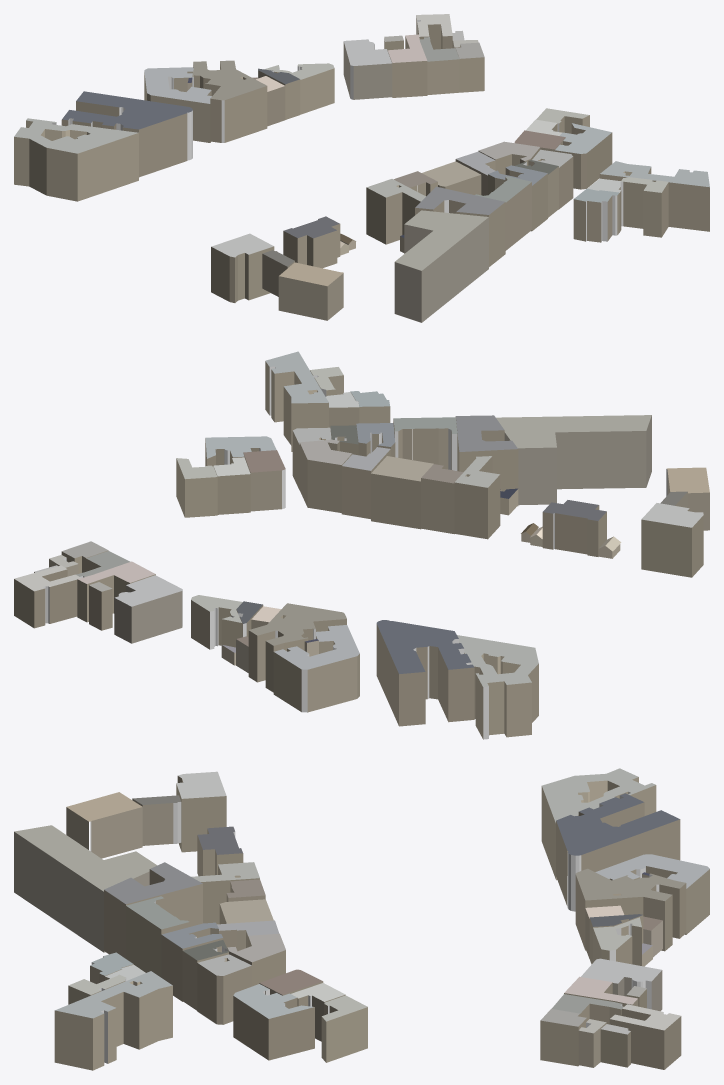
3 views of the same model, one above another, from view 1: azimuth 30°, elevation 25°; view 2: azimuth 150°, elevation 25°; view 3: azimuth 270°, elevation 25° (orthographic). The views are drawn at different scales.
Parts seen in each view (by area): view 1: tuile; view 2: tuile; view 3: tuile.
Part boxes in pixels (x1=…): tuile: x1=14, y1=14, x2=709, y2=322; tuile: x1=14, y1=351, x2=709, y2=739; tuile: x1=14, y1=768, x2=709, y2=1070.
Bounding box in the file's own units: 278 × 38.92 × 305.
